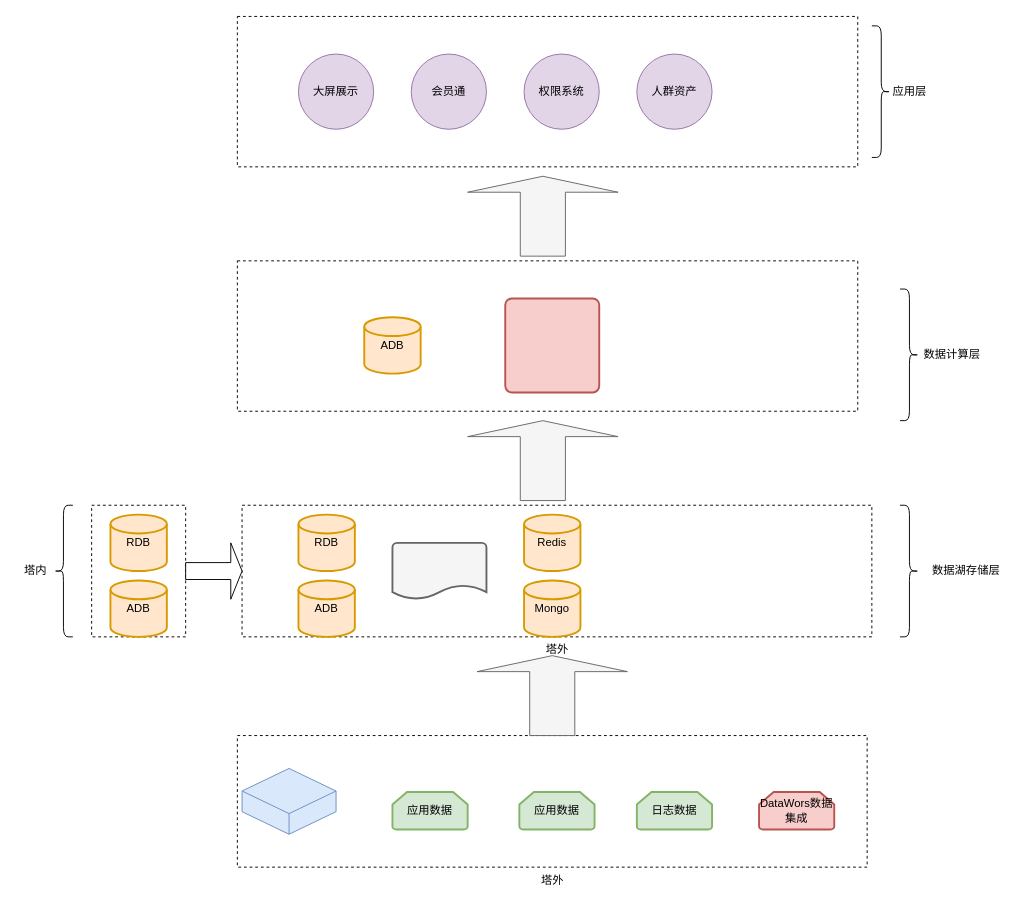
This 1024x903 diagram has some shape labels left out. Each missing label, with the centre of its shape:
"MaxCompute" belongs at (552,345).
"OSS对象存储" belongs at (439,570).
"数据迁移" belongs at (288,801).
